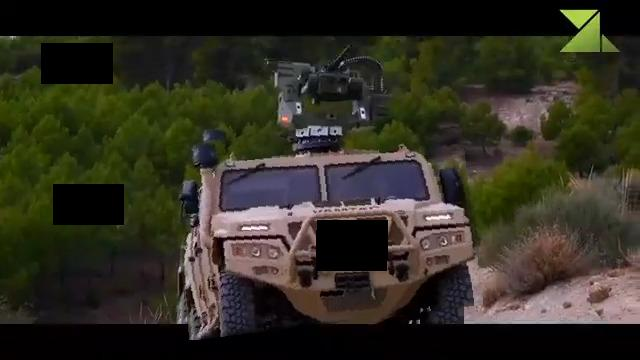MIL_HMMWV: (172, 119, 478, 332)
